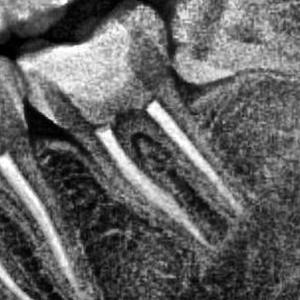tooth: (10, 6, 241, 243), (168, 2, 300, 108)
